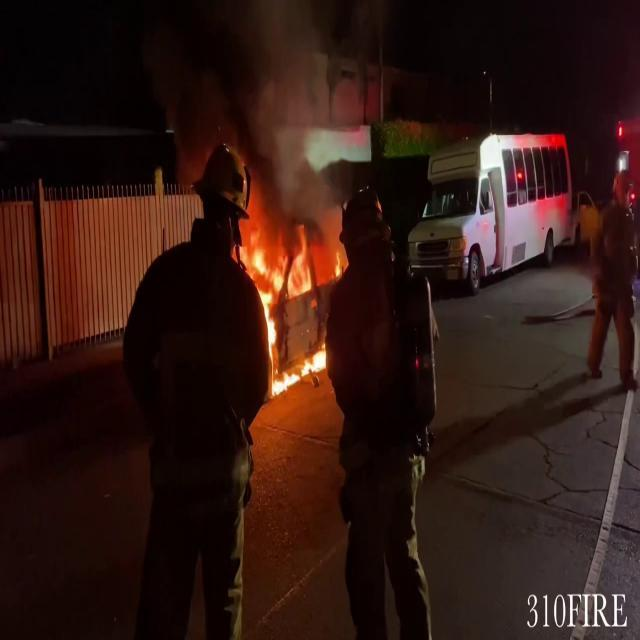Fire: (251, 237, 329, 399)
Smoke: (206, 7, 322, 210)
